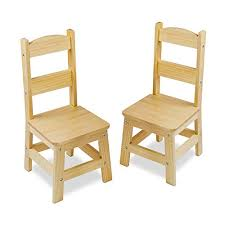tiyarina: (10, 26, 113, 207), (119, 20, 208, 187)
